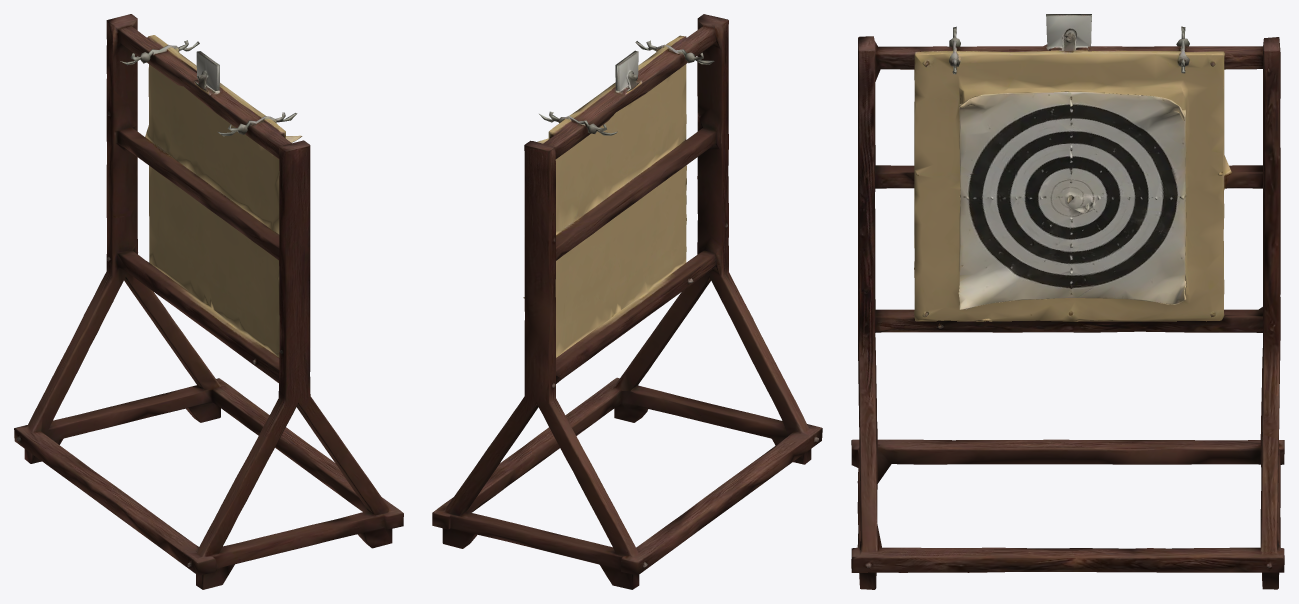
The model's file is target.glb.
The picture shows the model from 3 angles, left to right: view 1: azimuth 30°, elevation 25°; view 2: azimuth 150°, elevation 25°; view 3: azimuth 270°, elevation 25°; orthographic projection. The views are drawn at different scales.
Parts seen in each view (by area): view 1: tripo_node_158b66cb-7d03-419a-8354-3fe49d35ab8d; view 2: tripo_node_158b66cb-7d03-419a-8354-3fe49d35ab8d; view 3: tripo_node_158b66cb-7d03-419a-8354-3fe49d35ab8d.
Boxes of the visible parts, x1=… form: tripo_node_158b66cb-7d03-419a-8354-3fe49d35ab8d: x1=14, y1=14, x2=403, y2=589; tripo_node_158b66cb-7d03-419a-8354-3fe49d35ab8d: x1=432, y1=14, x2=822, y2=589; tripo_node_158b66cb-7d03-419a-8354-3fe49d35ab8d: x1=851, y1=14, x2=1284, y2=589.
Size of the model in its own units: 0.5001 by 1 by 0.7539.
1 material, 1 textured.
